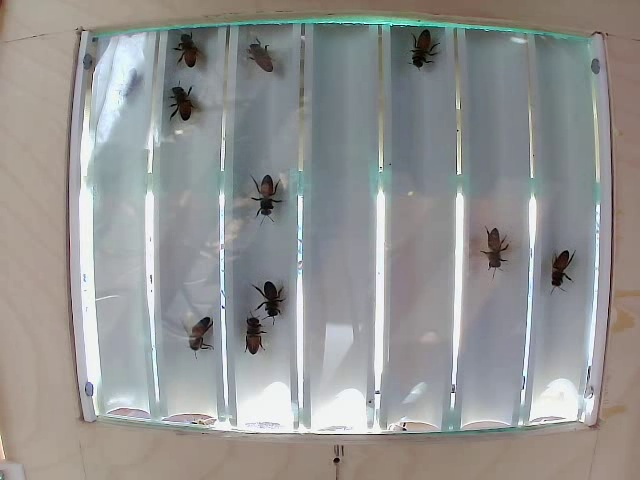bee: (163, 35, 220, 80), (239, 170, 287, 223), (156, 82, 204, 133), (392, 20, 435, 71), (251, 266, 296, 314), (167, 305, 213, 350), (482, 220, 524, 269), (233, 301, 270, 355), (240, 25, 278, 73), (553, 248, 583, 284)
